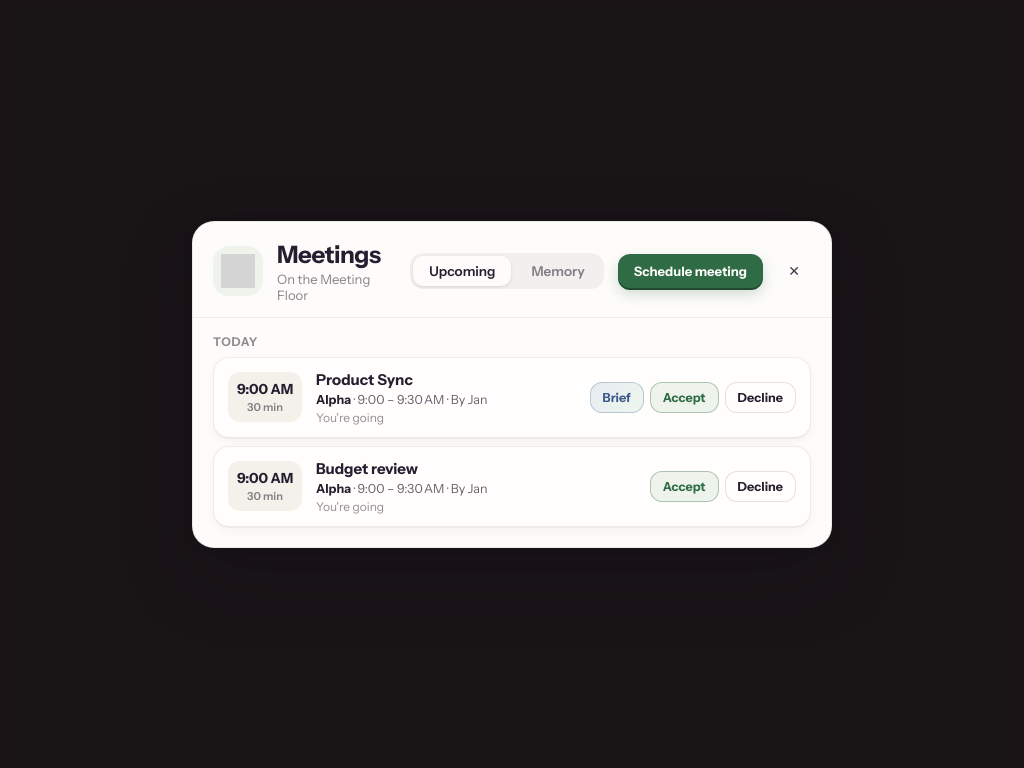
Test: Pre-meeting Brief › a booking that is no longer the viewer's reads as missing, not as an error
What coordinates should you click on to do the following:
click the button with test id "meeting-brief"
I would click on:
 (617, 397)
Its box is top-left (590, 382), bottom-right (644, 412).
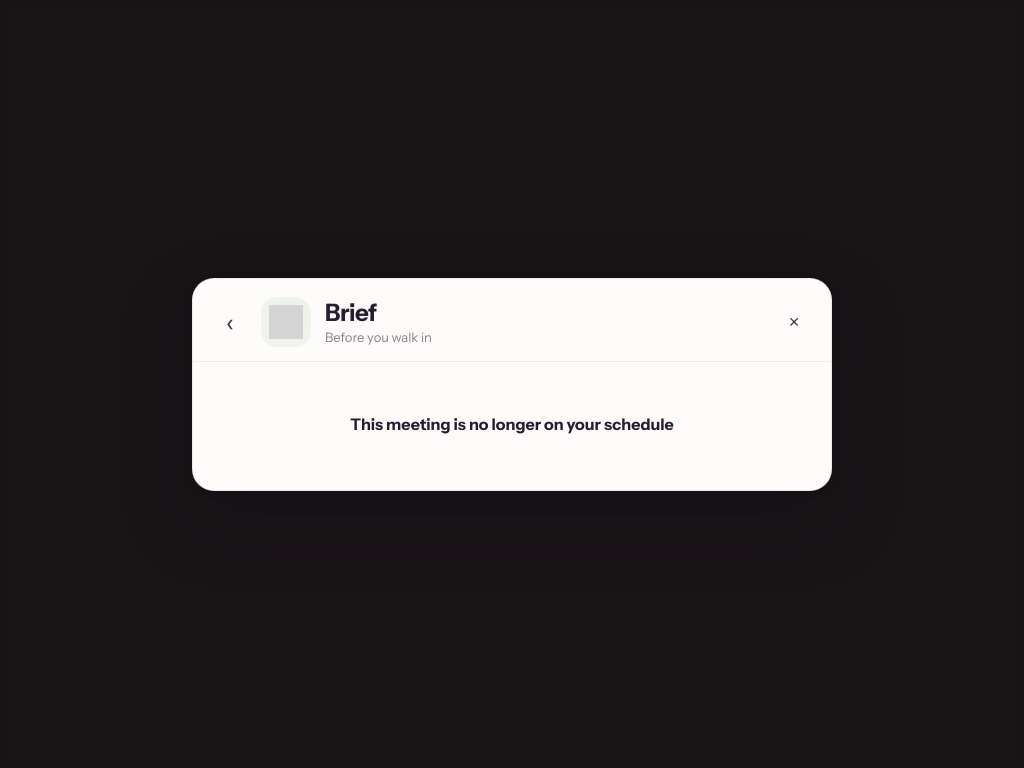
Now the element with test id "brief-missing" is shown, box top-left (350, 414), bottom-right (674, 434)
